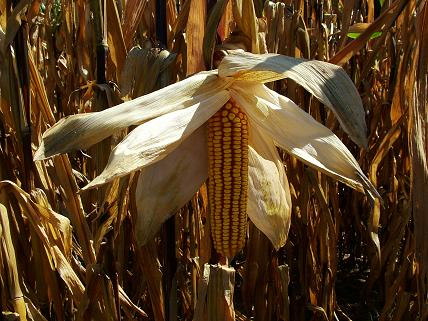corn: (206, 97, 249, 263)
